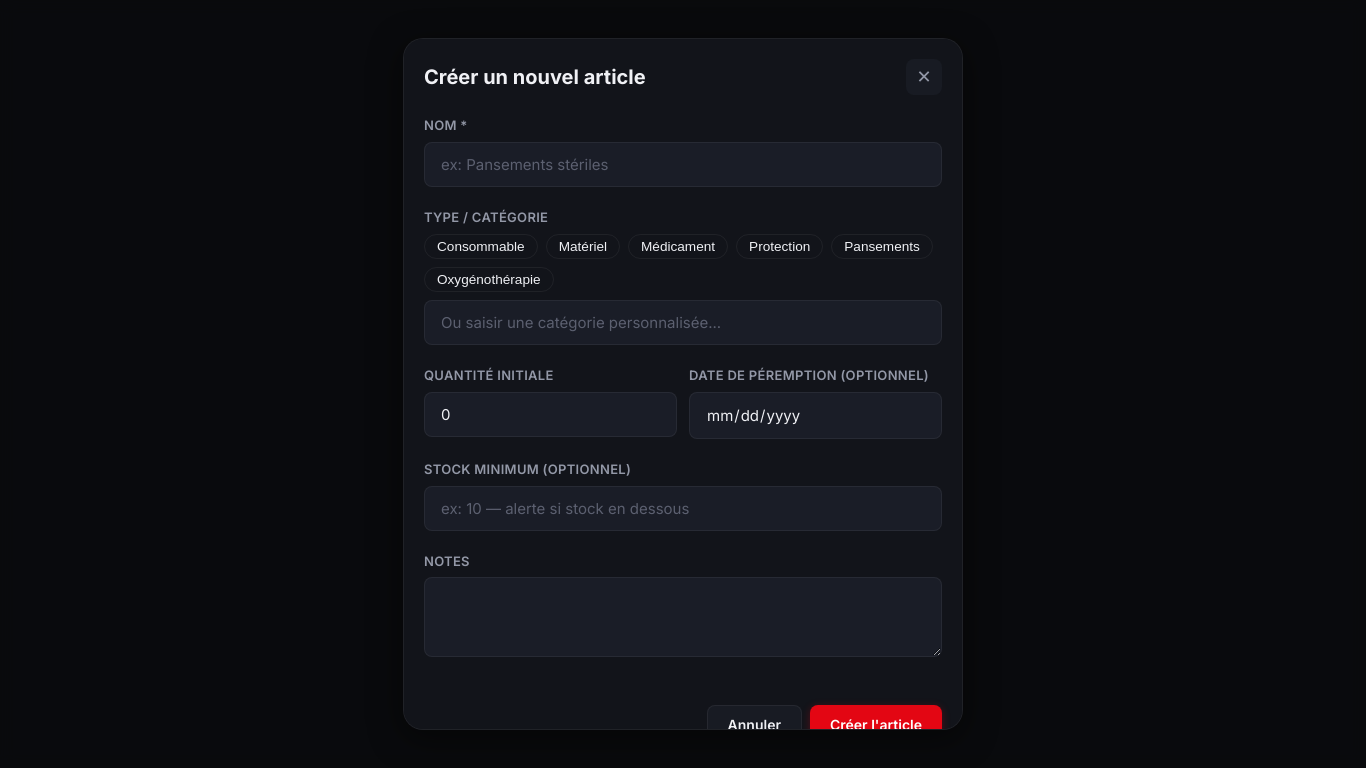
it: AddItemModal › affiche une erreur serveur sans fermer la modale
This screenshot has width=1366, height=768.
Type "Gants" into the field with placeholder "ex: Pansements stériles". click: (683, 165)
box: [424,142,942,187]
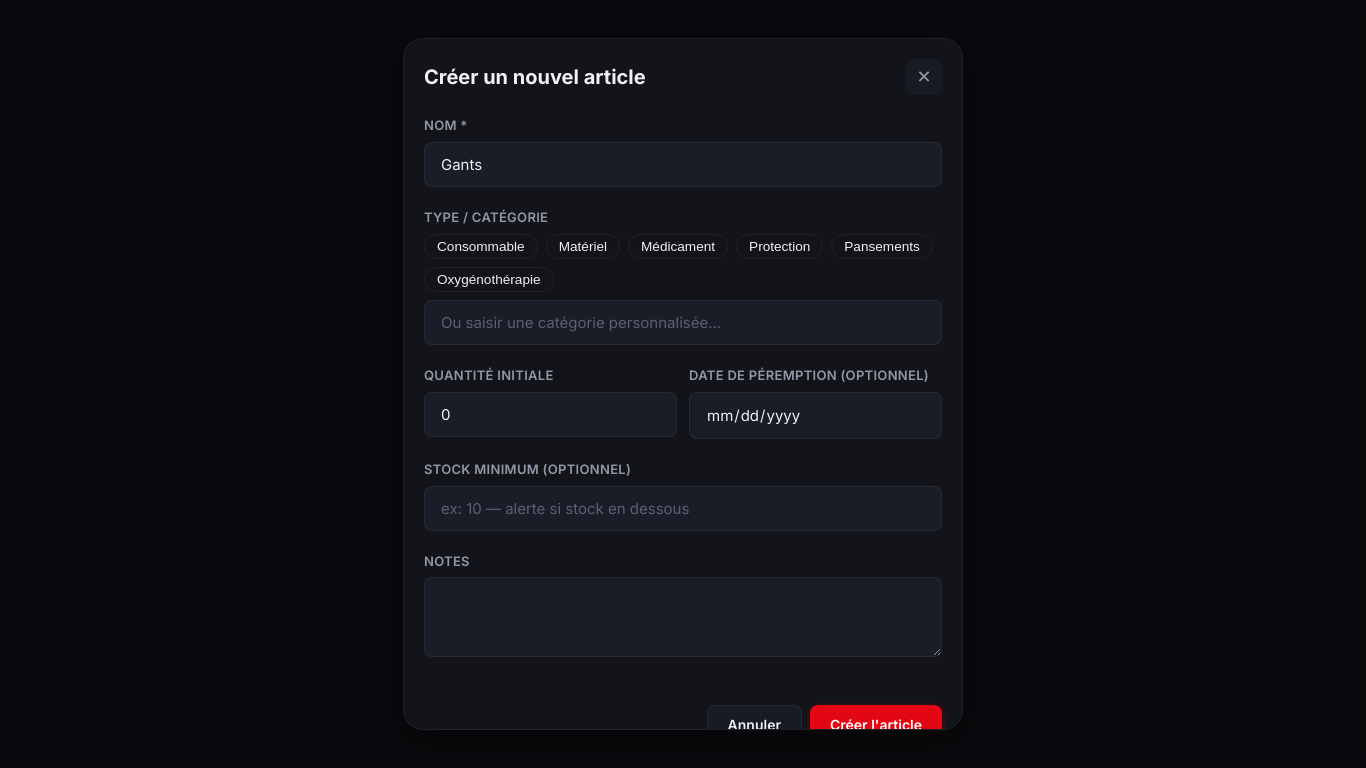
Click the button "Créer l'article". click: (876, 724)
box: [810,705,942,744]
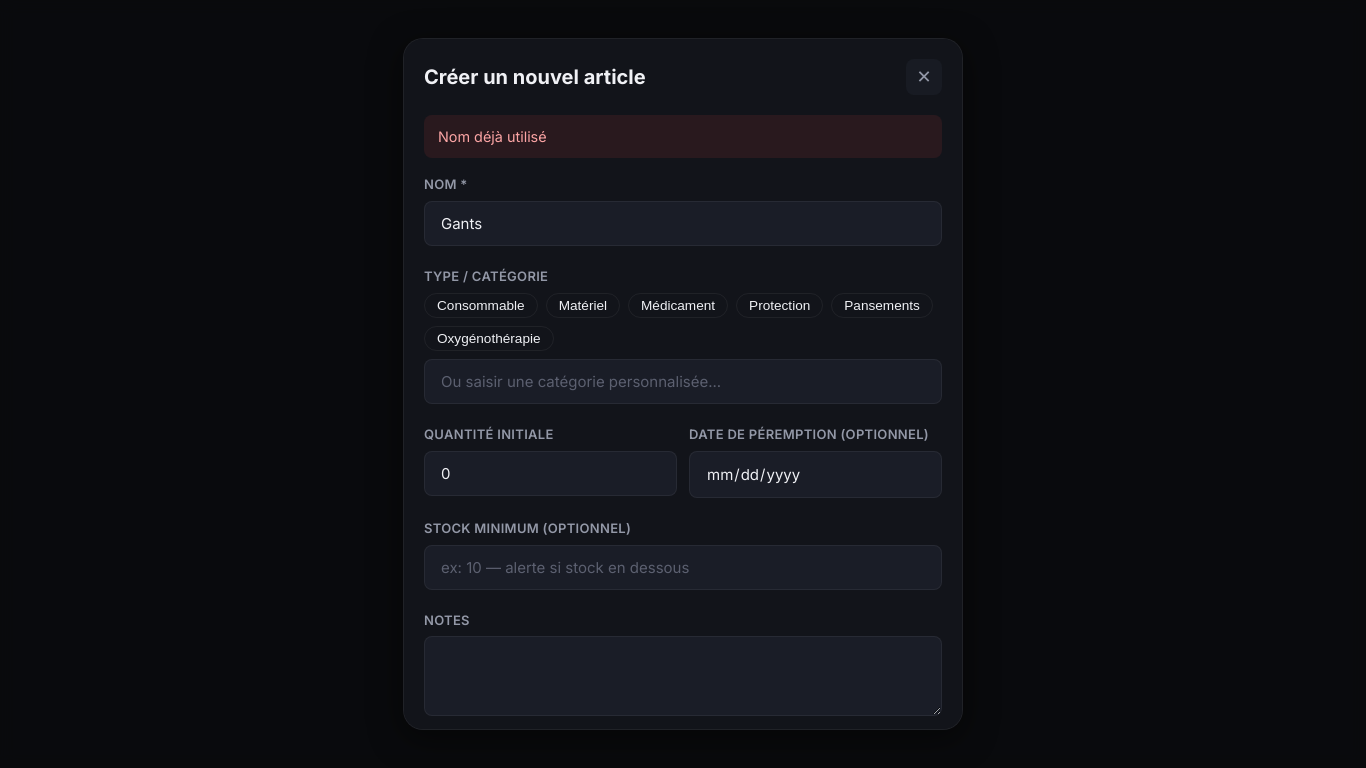
Now the text "Nom déjà utilisé" is shown, box [424,115,942,158]
